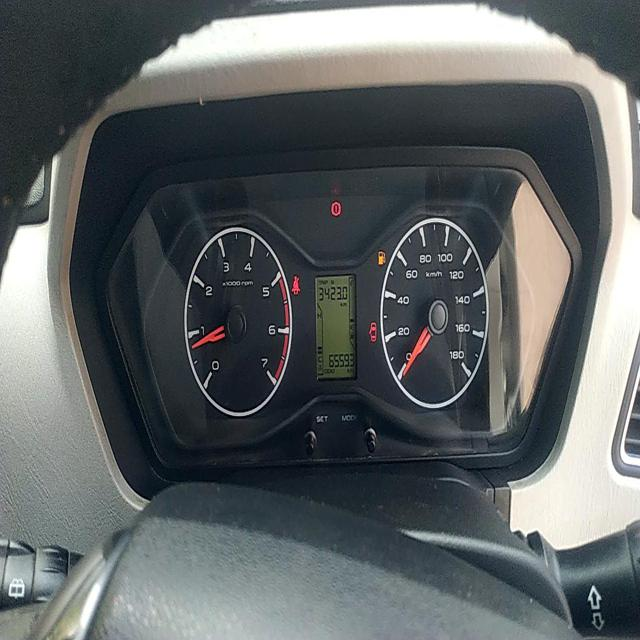odometer: (326, 349, 356, 371)
